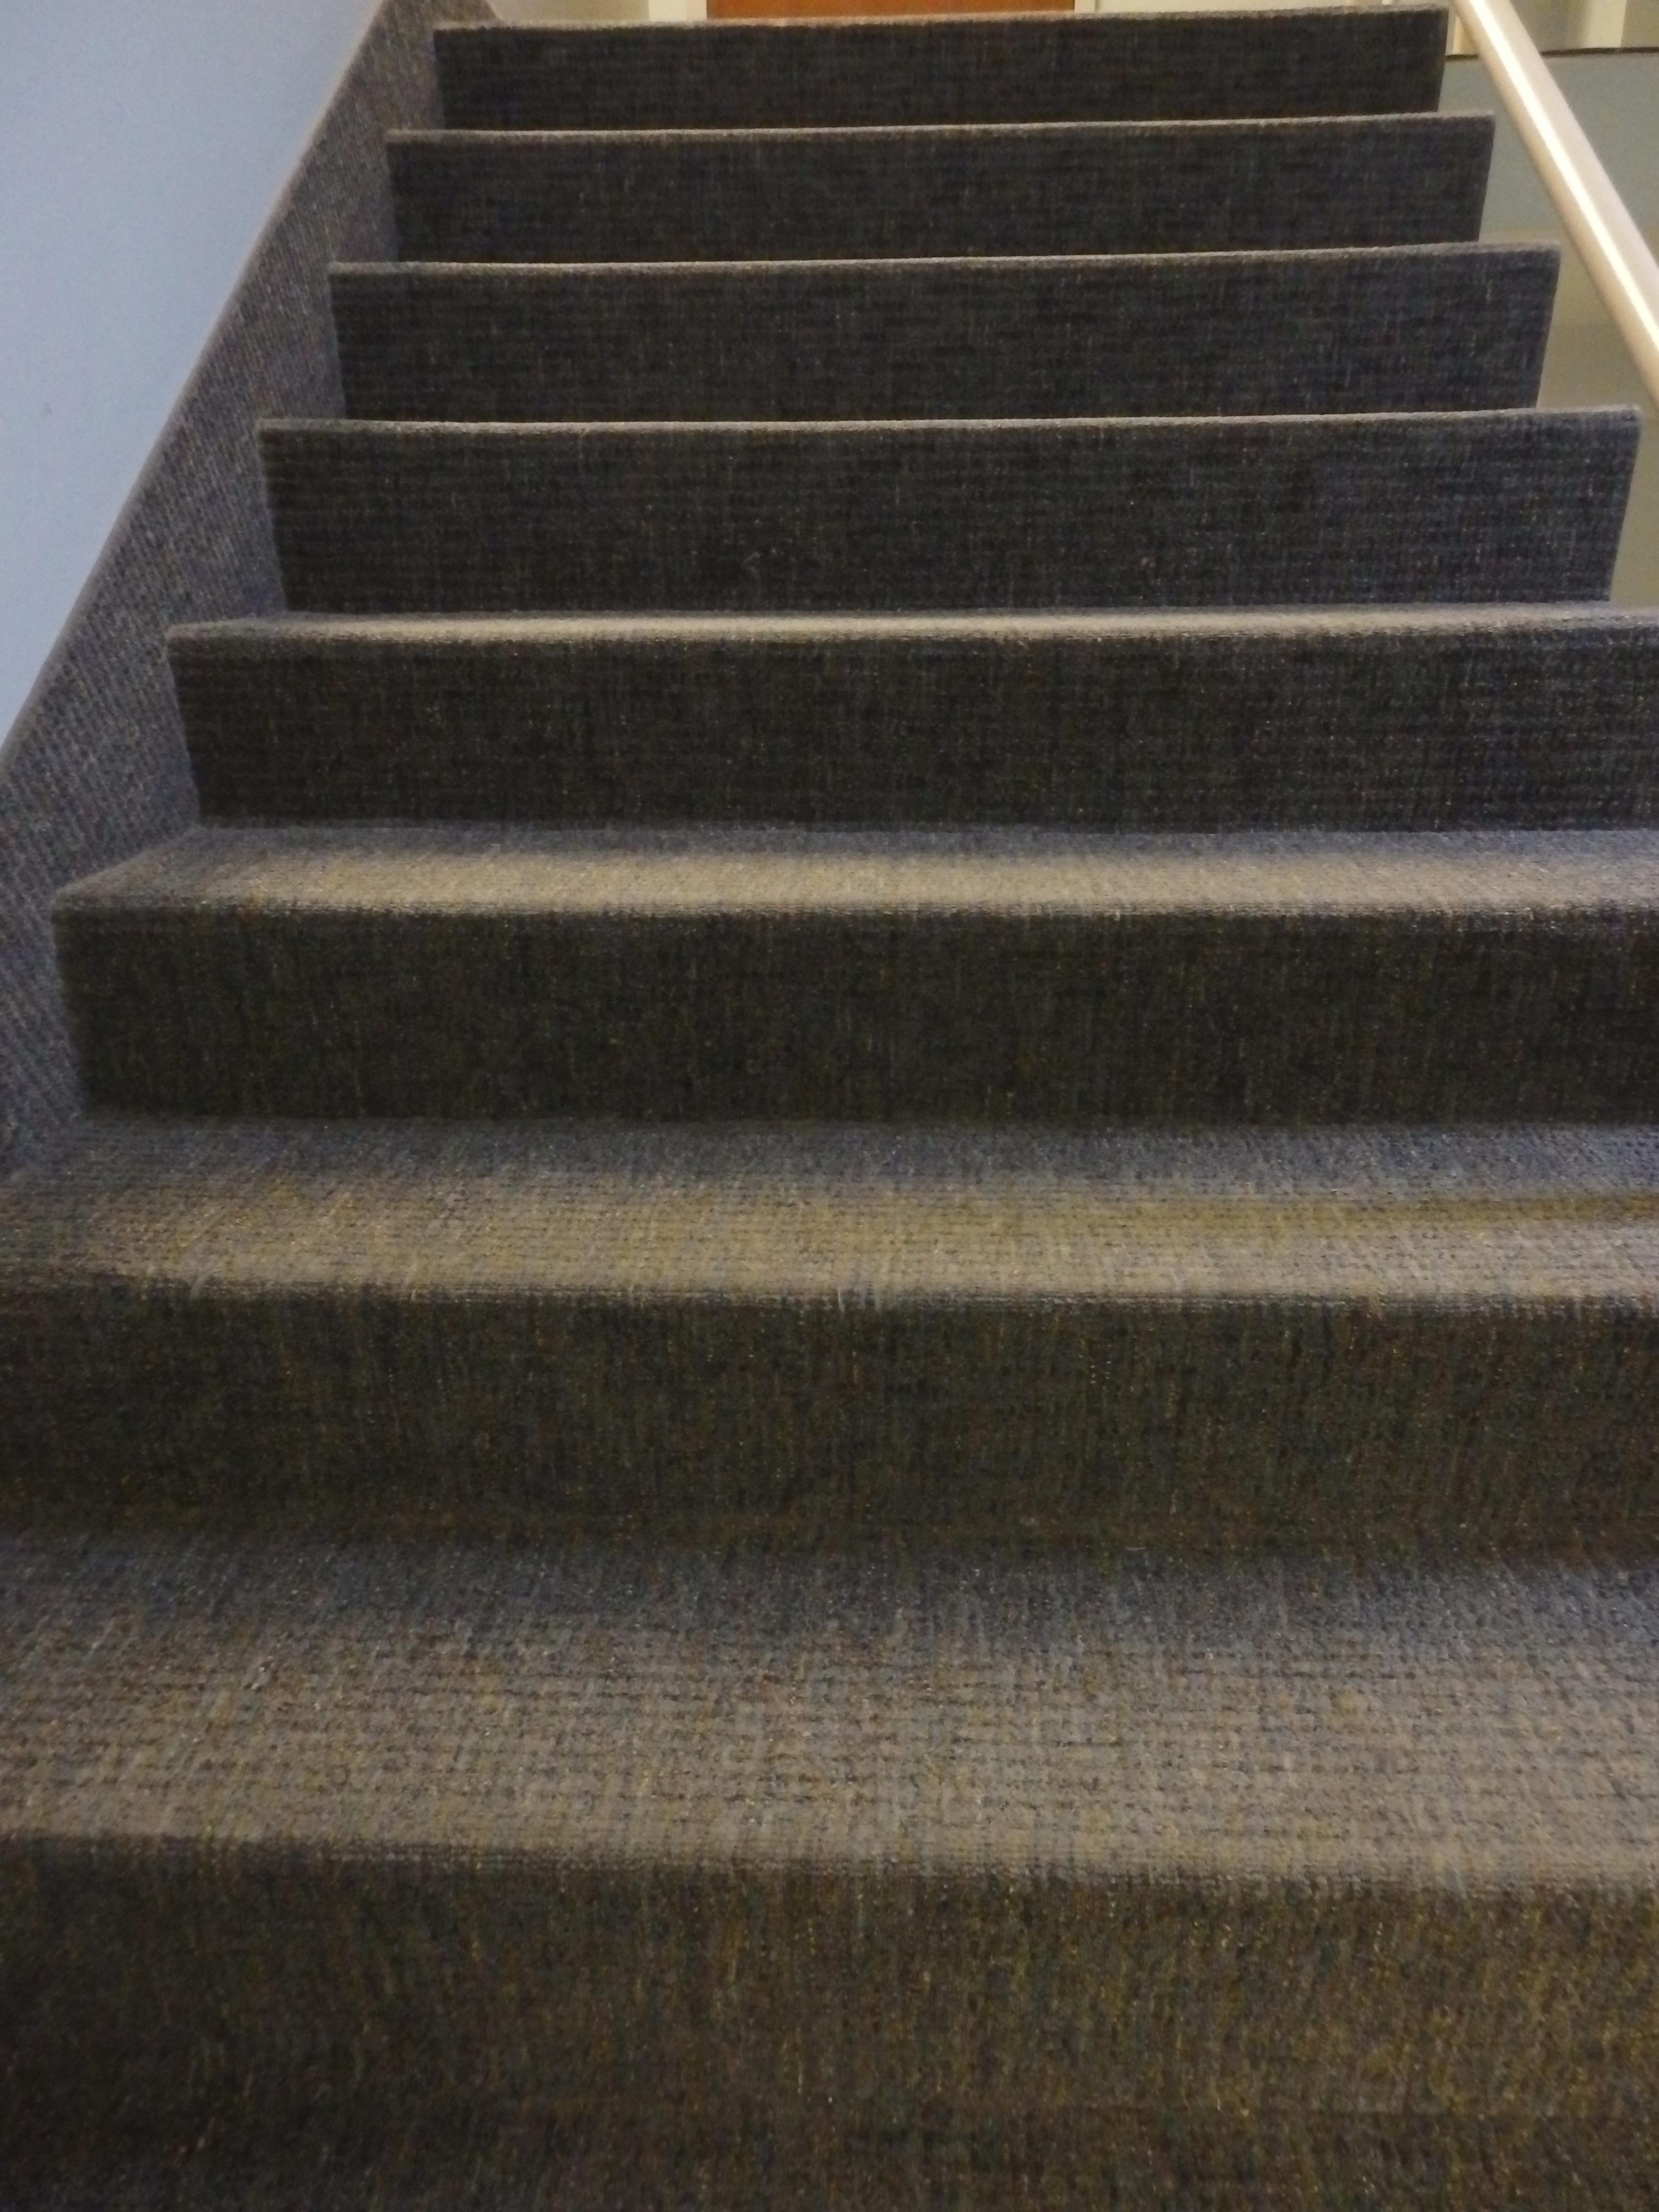stairs_up: (106, 10, 1591, 2062)
